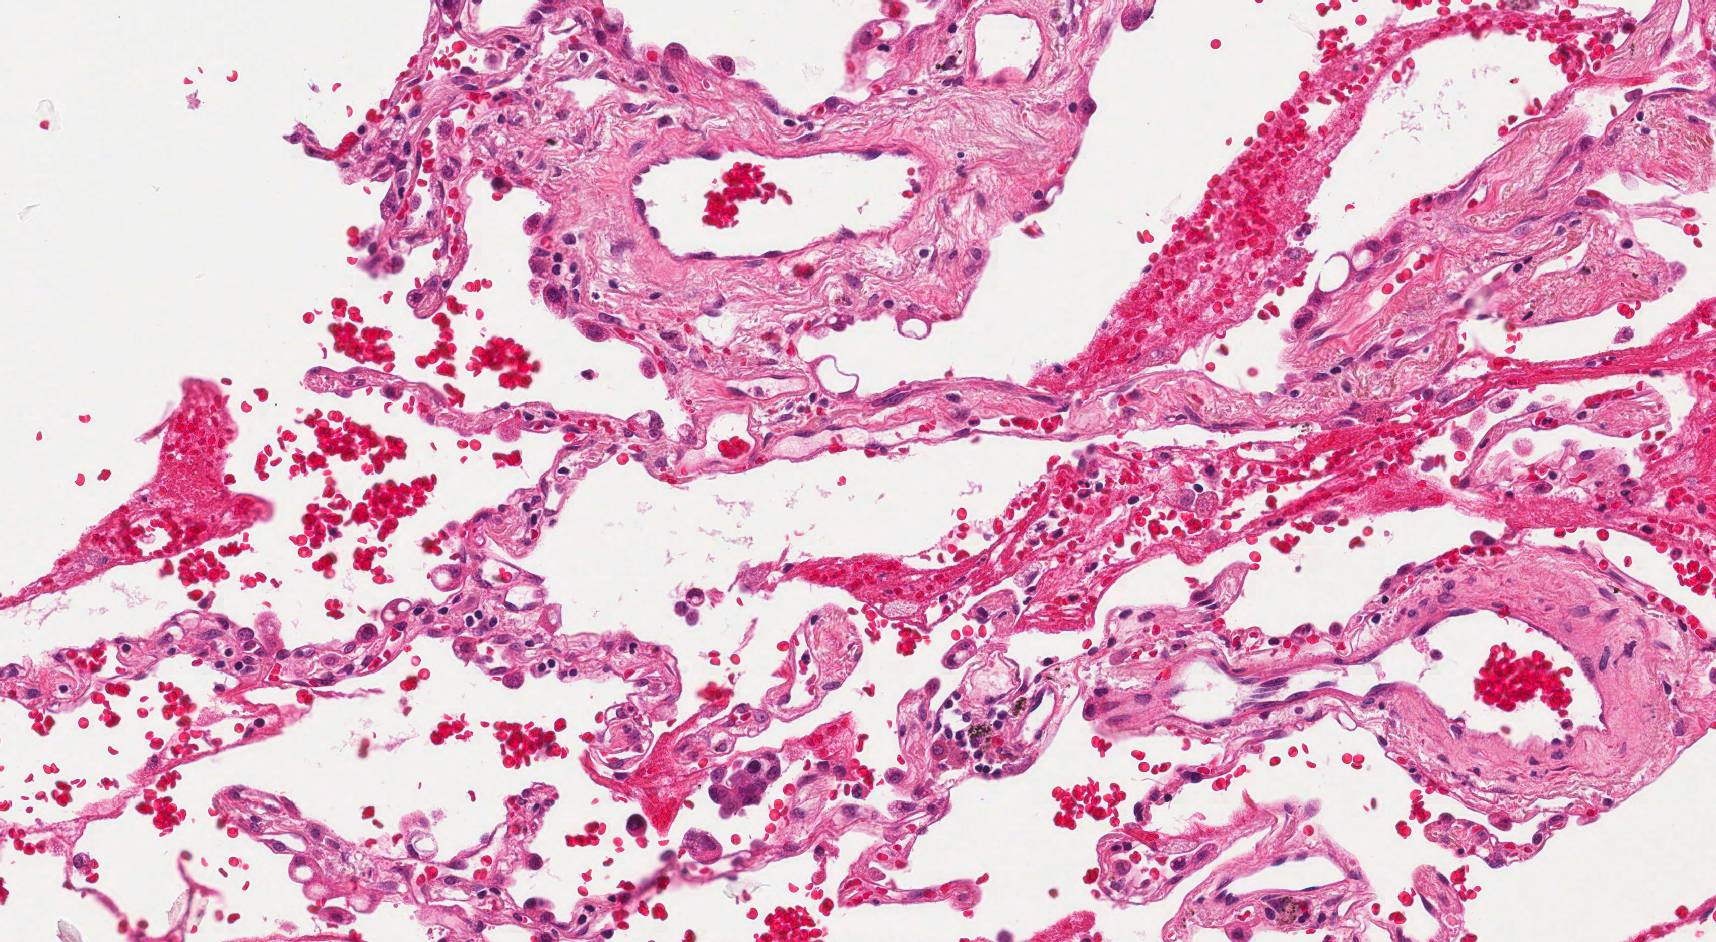stas: (707, 752, 780, 816)
